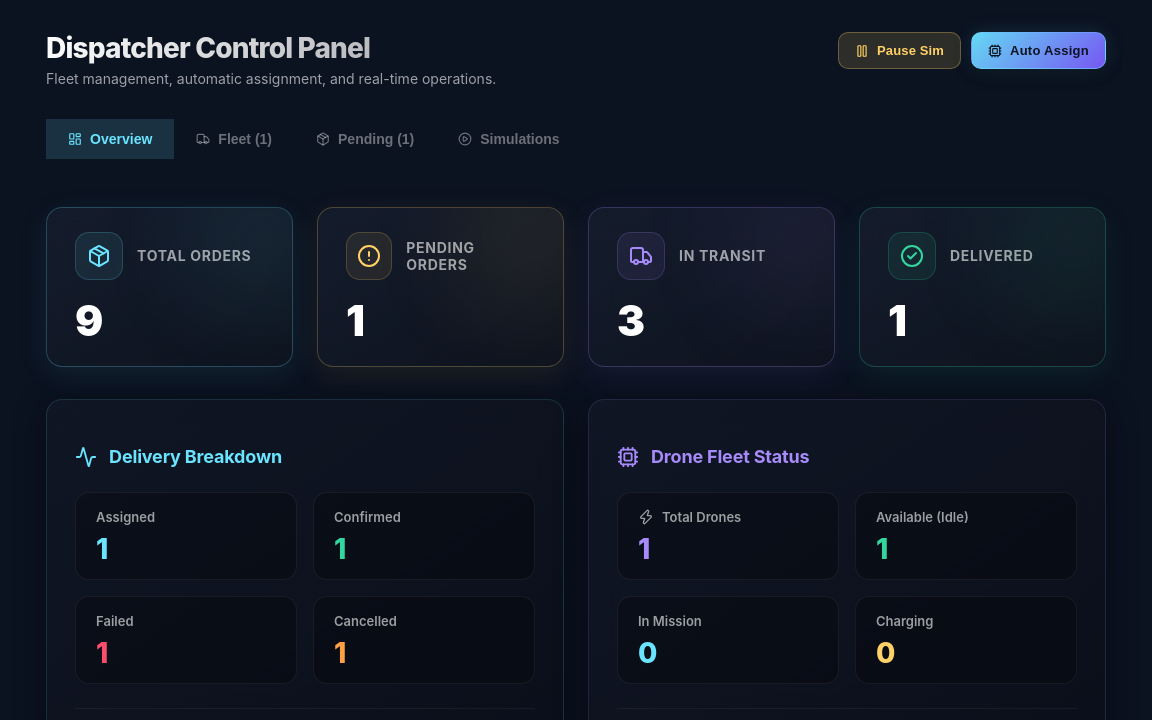
Test: DispatcherDashboard › shows customer names in the pending tab when available
Click the button "Pending (1)".
click(365, 139)  # box [294,119,436,159]
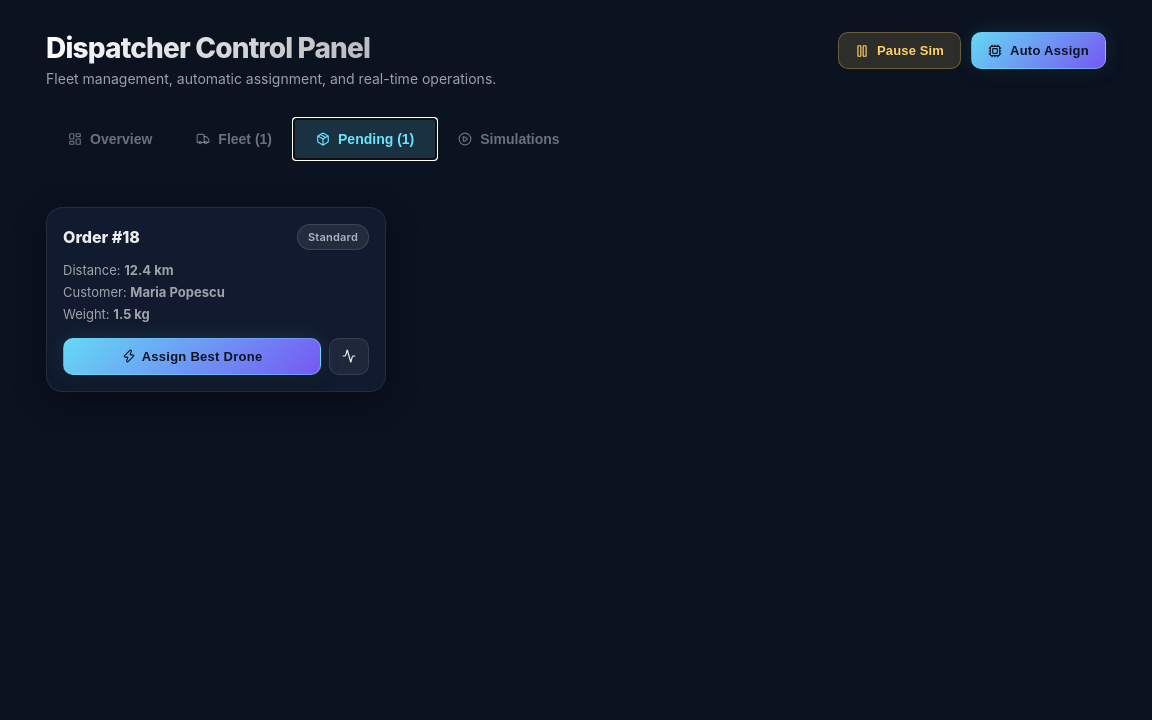
Result: the text "Customer:" is shown at [63,284,130,300]
Result: the text "Maria Popescu" is shown at [130,284,225,300]
